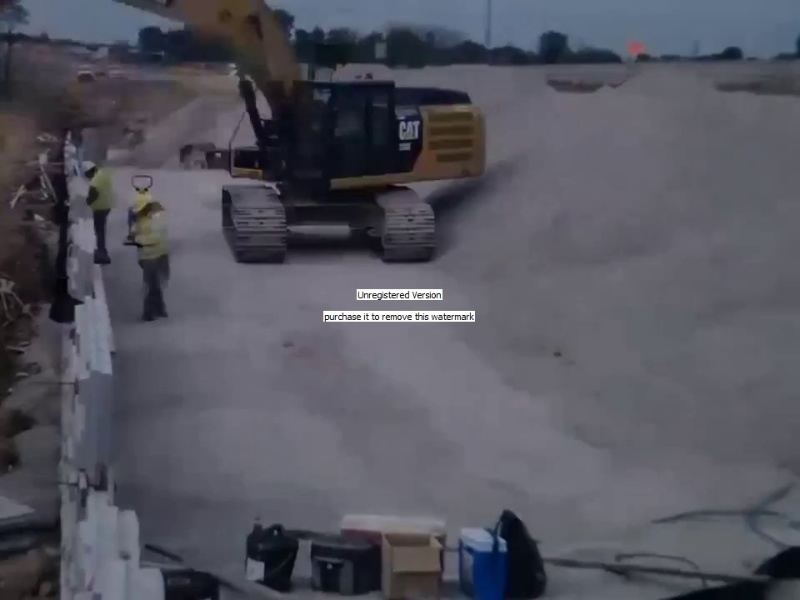excavator: (119, 1, 488, 263)
hardhat: (128, 193, 150, 214), (78, 159, 95, 172)
person: (123, 192, 176, 322), (77, 158, 117, 264)
wall: (58, 129, 166, 600)
